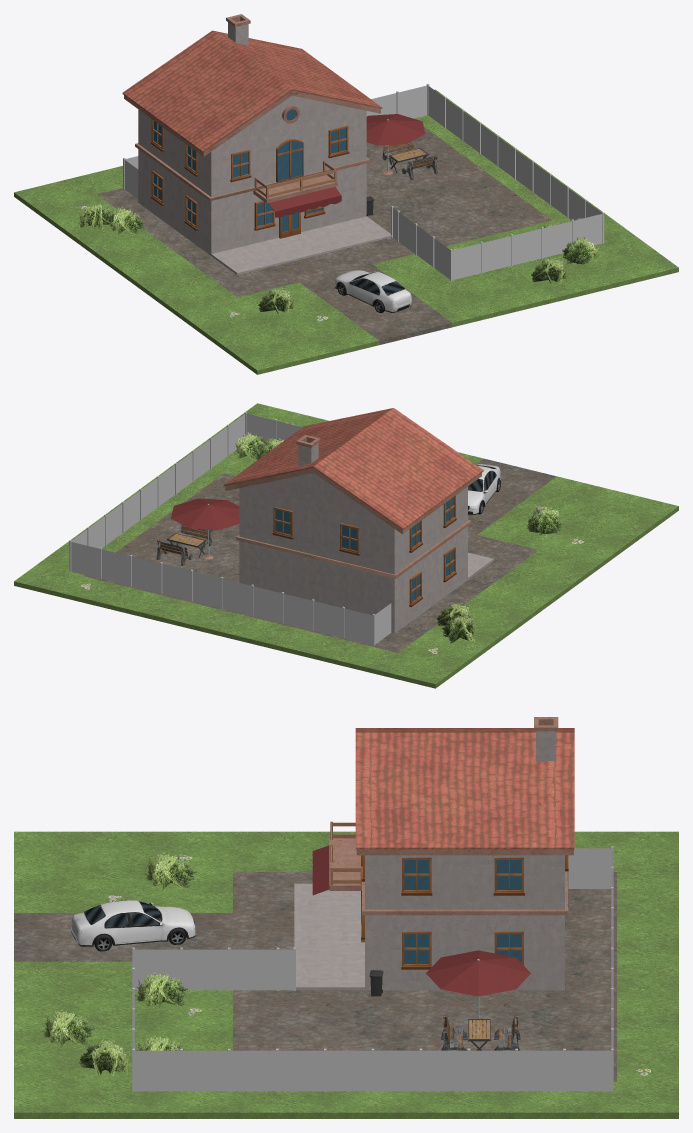
Rendered from HouseSmall_01_Model.fbx.
3 renders of one model, top to bottom at view 1: azimuth 30°, elevation 25°; view 2: azimuth 150°, elevation 25°; view 3: azimuth 270°, elevation 25°, orthographic. The views are drawn at different scales.
Visible parts, largest first — view 1: foundation25x25, house_small02, decoration, foliage, vehicle_car01; view 2: foundation25x25, house_small02, decoration, foliage, vehicle_car01; view 3: foundation25x25, house_small02, decoration, foliage, vehicle_car01.
Part boxes in pixels (x1,y1,x2,y2): foundation25x25: [14, 89, 678, 374]; house_small02: [122, 14, 391, 274]; decoration: [123, 84, 604, 280]; foliage: [75, 203, 599, 320]; vehicle_car01: [335, 270, 411, 312]; foundation25x25: [14, 403, 678, 688]; house_small02: [223, 408, 493, 633]; decoration: [69, 411, 391, 645]; foliage: [81, 421, 583, 653]; vehicle_car01: [468, 464, 500, 514]; foundation25x25: [14, 831, 678, 1118]; house_small02: [294, 717, 574, 990]; decoration: [132, 846, 613, 1091]; foliage: [42, 852, 650, 1078]; vehicle_car01: [71, 900, 195, 951].
Bounding box in the file's own units: 992 × 383 × 992.
